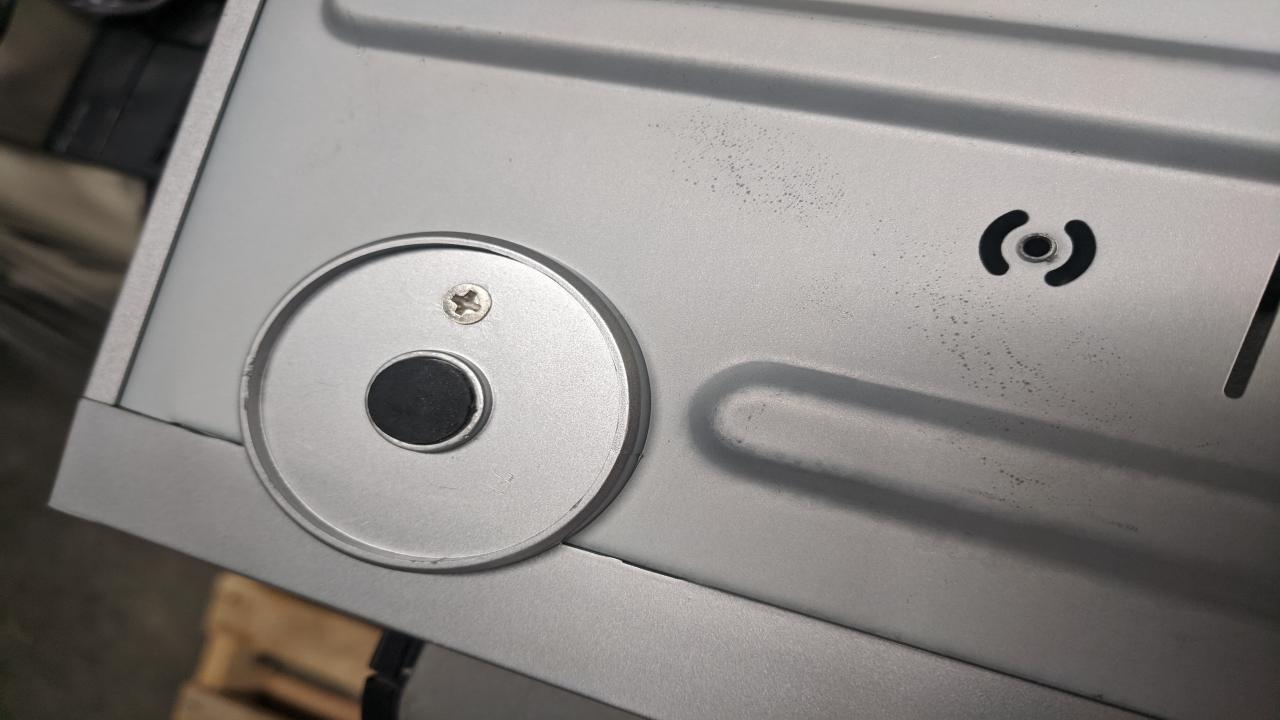CRS: (438, 282, 498, 324)
